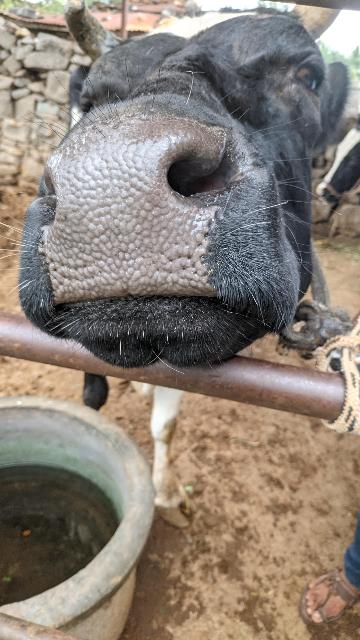Muzzle: (48, 140, 210, 296)
